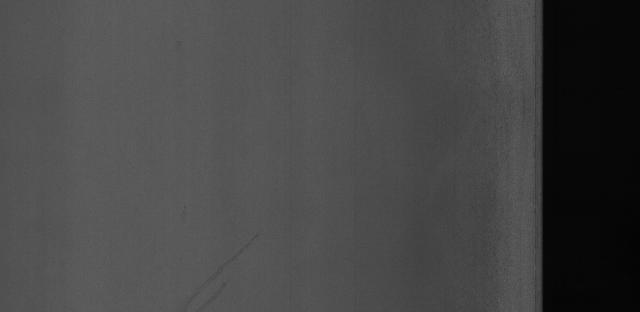water_spot: (184, 241, 263, 312)
